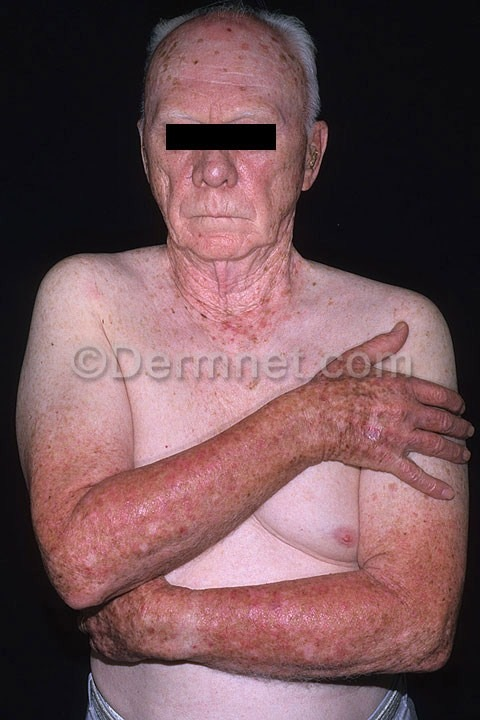Melasma: (161, 187, 426, 591), (90, 579, 367, 667), (19, 414, 147, 590), (365, 505, 456, 664), (303, 377, 424, 477)
